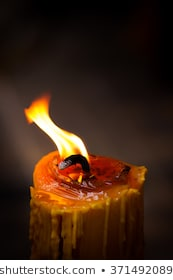Fire: (23, 90, 92, 172)
